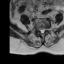CCS_stenosis: (41, 27, 43, 35)
LFS_stenosis: (45, 26, 47, 32)
LLS_normal: (43, 27, 45, 34)
RFS_stenosis: (37, 25, 39, 32)
RLS_normal: (39, 27, 41, 34)
